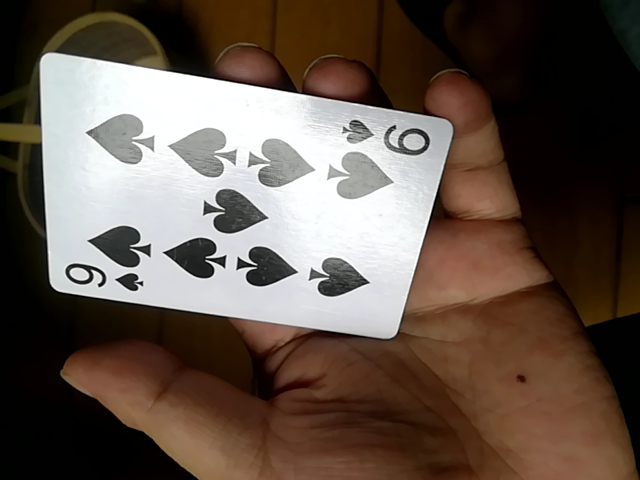ht 9: (41, 53, 452, 344)
